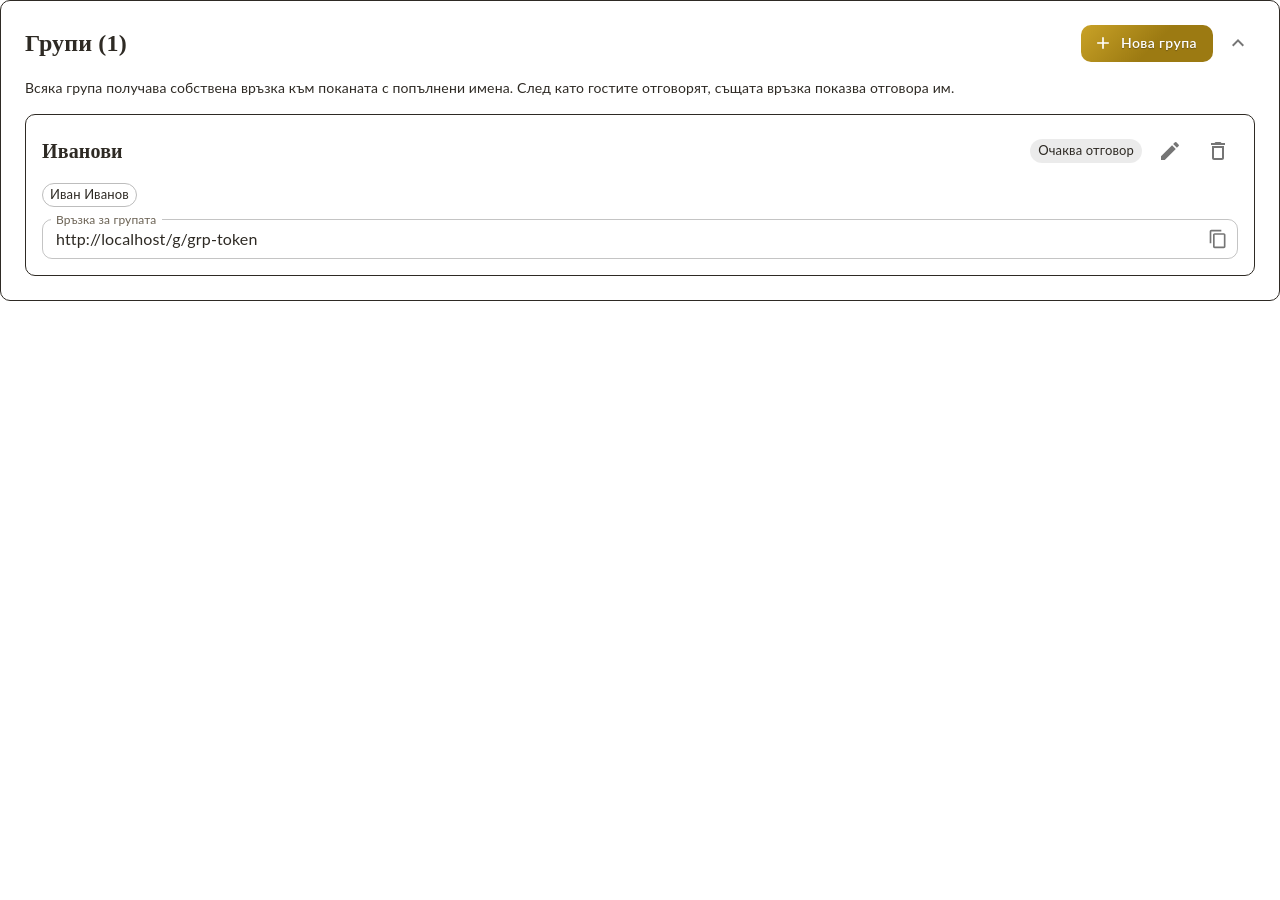
Scenario: GuestGroupsPanel › edits a group
The width and height of the screenshot is (1280, 900).
Click the button named "Редактирай Иванови" at (1170,150), box [1150, 130, 1190, 170]
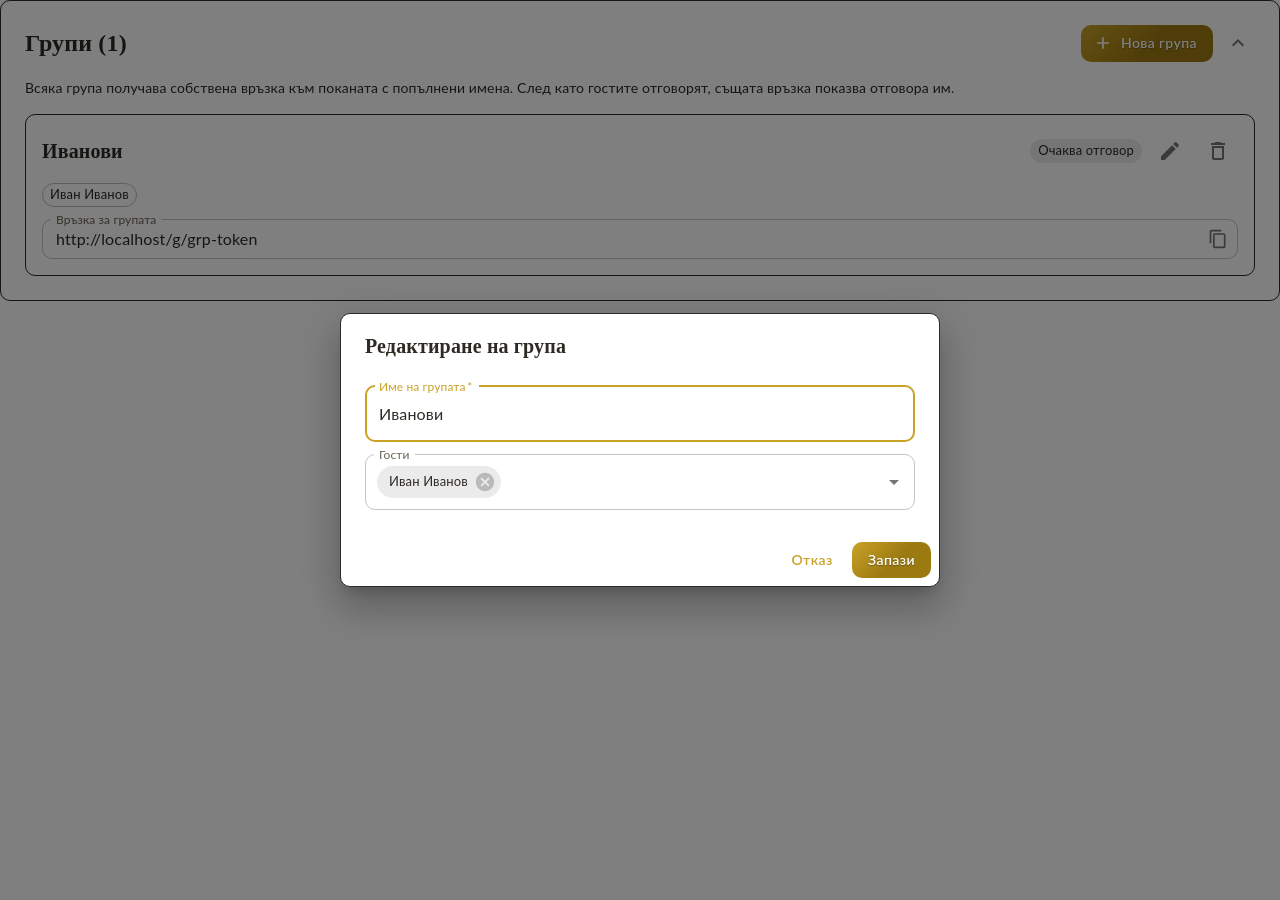
Replace the text in the field labelled "Име на групата *" with "Семейство Иванови" at (640,414), box [365, 386, 915, 442]
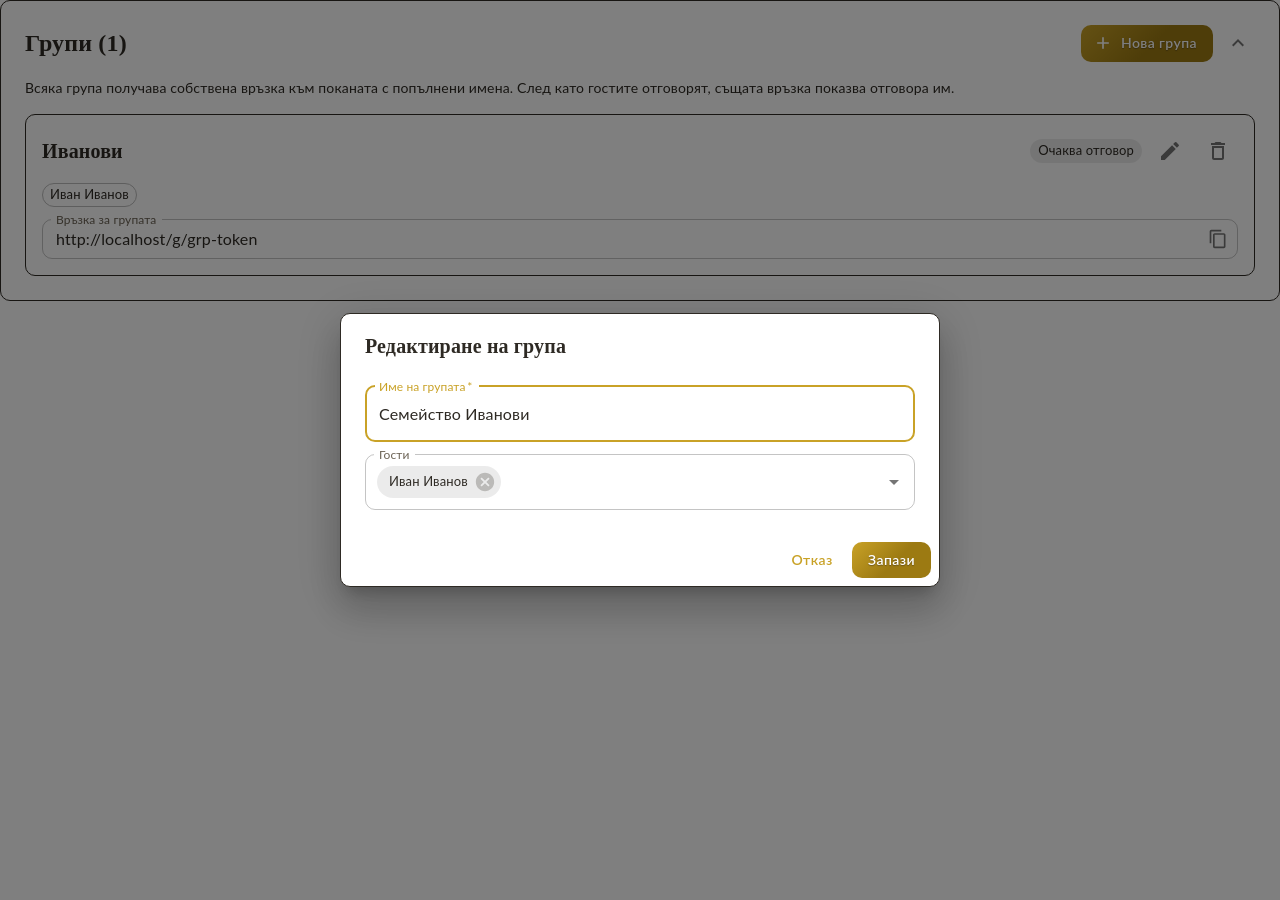
Click the button "Запази" at (892,560), box [852, 542, 931, 578]
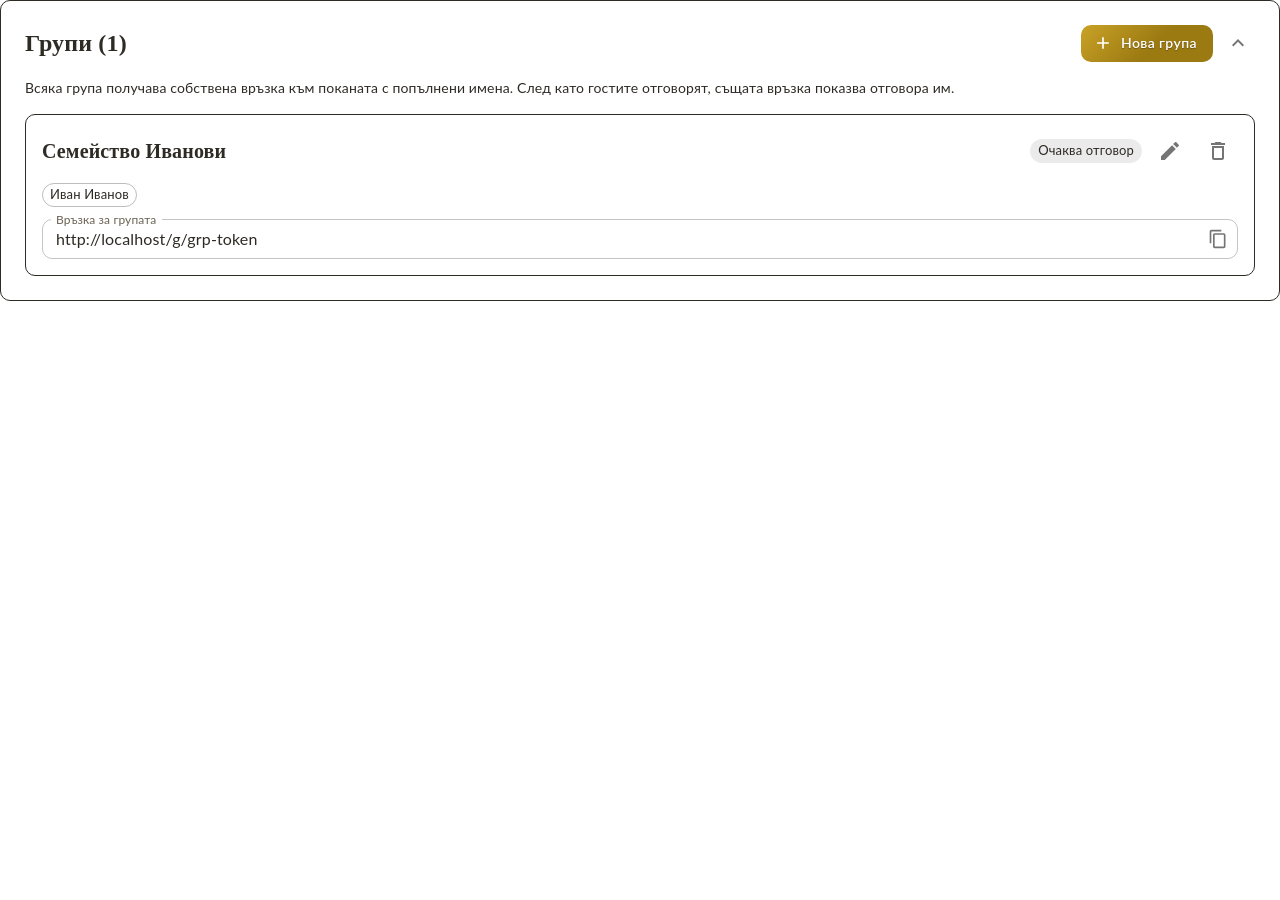
Check: the element "Семейство Иванови" is shown, box [25, 114, 1255, 276]
